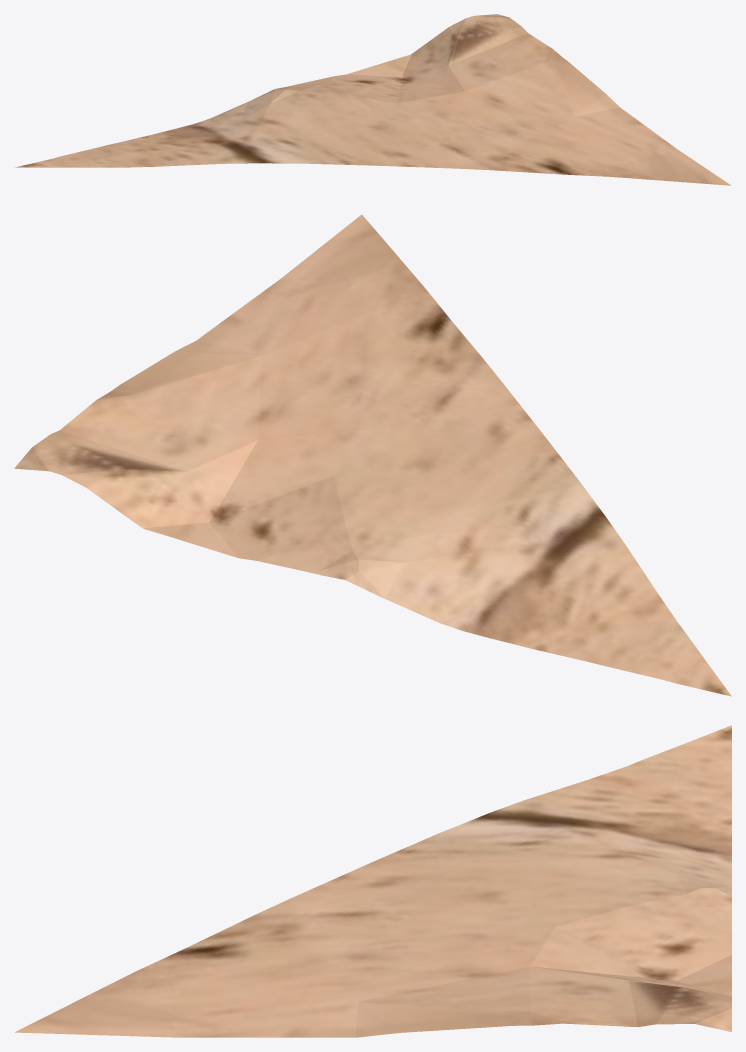
3 views of the same model, one above another, from view 1: azimuth 30°, elevation 25°; view 2: azimuth 150°, elevation 25°; view 3: azimuth 270°, elevation 25° (orthographic). The views are drawn at different scales.
Bounding box in the file's own units: 1.35 × 0.1118 × 1.13.
1 material, 1 textured.
